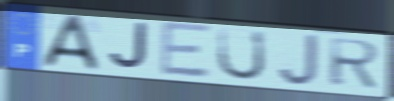A: (39, 14, 102, 71)
E: (159, 19, 214, 80)
J: (276, 32, 320, 88), (107, 20, 150, 72)
R: (327, 36, 384, 90)
U: (215, 25, 268, 82)
